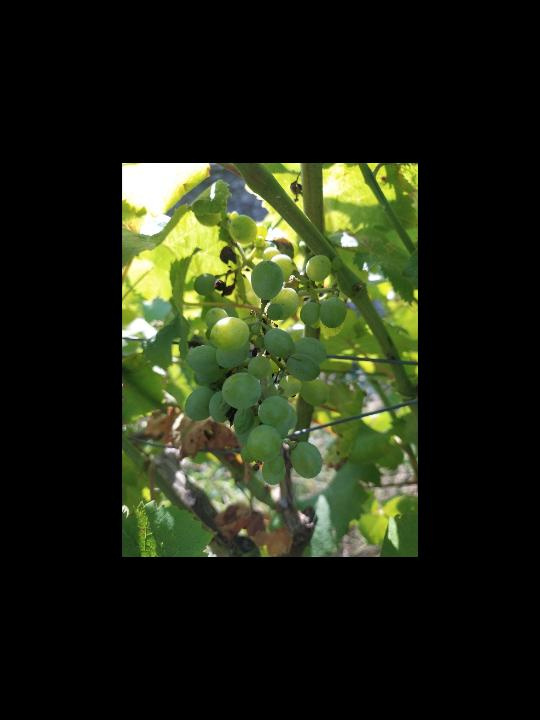grape: (182, 214, 349, 487)
